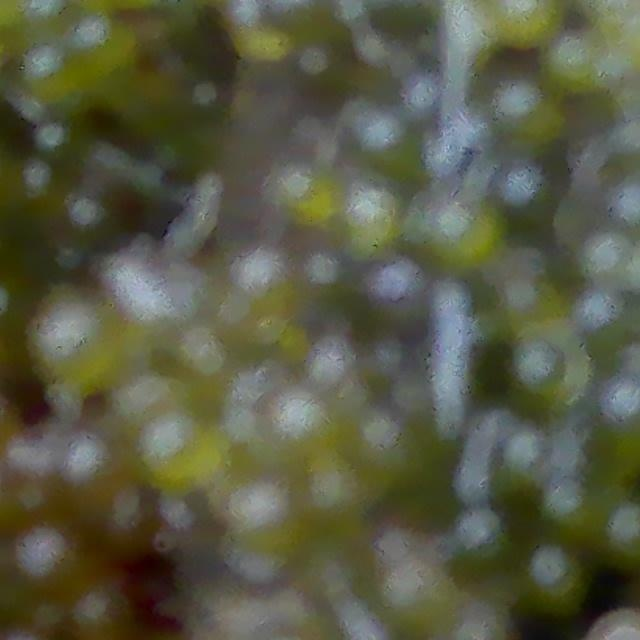SeaGrape: (140, 410, 224, 494), (350, 258, 429, 334), (59, 434, 119, 490), (10, 528, 75, 579), (346, 188, 400, 247), (527, 546, 579, 604), (5, 430, 49, 491), (75, 593, 132, 640)
